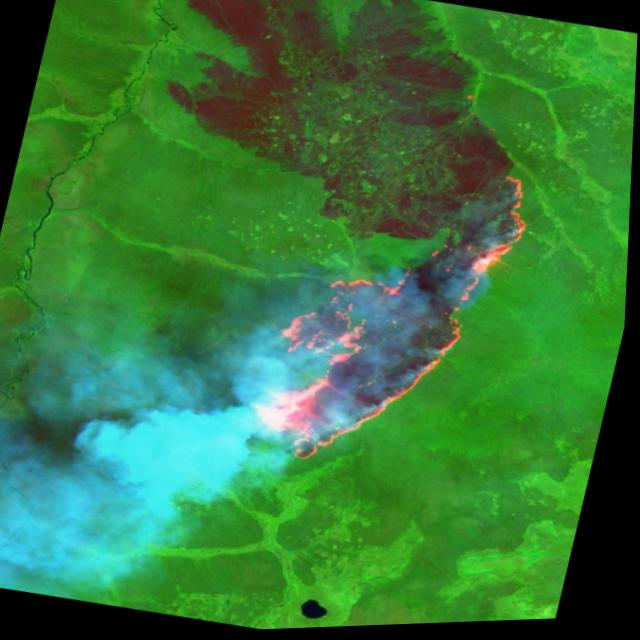fire: (221, 131, 553, 504)
